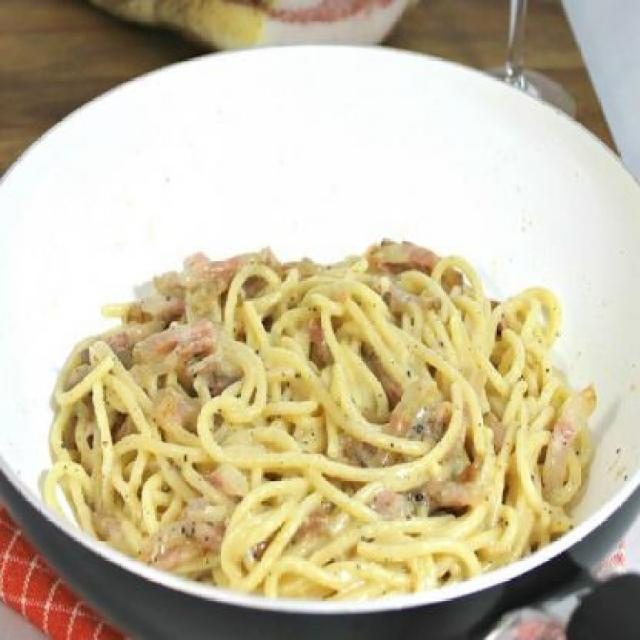Pasta with carbonara sauce: (30, 187, 638, 638)
